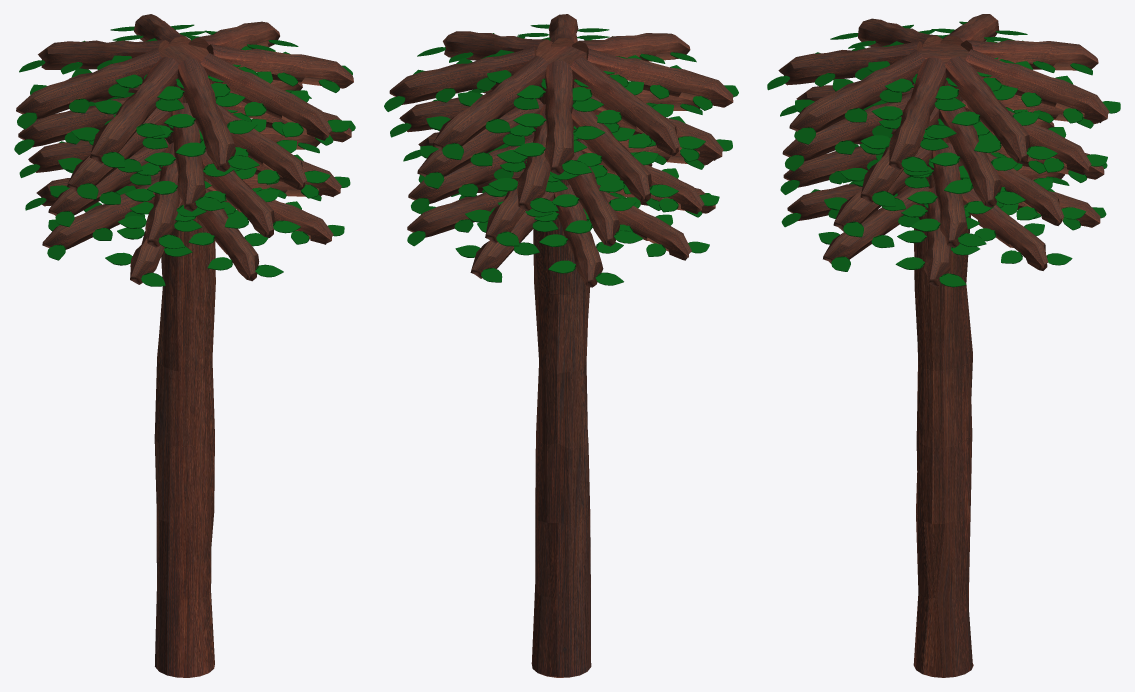
3 renders of one model, left to right at view 1: azimuth 30°, elevation 25°; view 2: azimuth 150°, elevation 25°; view 3: azimuth 270°, elevation 25°, orthographic.
Visible parts, largest first — view 1: 木ﾊﾟﾀｰﾝ２, 柱_29, 柱_32, 柱_31, 柱_30, 柱_28, 柱_25, 柱_21, 柱_7, 柱_13, 柱_22, 柱_24 (+11 smaller); view 2: 木ﾊﾟﾀｰﾝ２, 柱_32, 柱_31, 柱_26, 柱_27, 柱_25, 柱_24, 柱_30, 柱_28, 柱_8, 柱_18, 柱_16 (+11 smaller); view 3: 木ﾊﾟﾀｰﾝ２, 柱_26, 柱_29, 柱_27, 柱_28, 柱_30, 柱_25, 柱_19, 柱_21, 柱_2, 柱_4, 柱_11 (+11 smaller).
Boxes of the visible parts, box(x1,y1,x2,y2) form: 木ﾊﾟﾀｰﾝ２: box(154, 44, 215, 677); 柱_29: box(200, 53, 331, 140); 柱_32: box(16, 48, 161, 119); 柱_31: box(90, 56, 178, 163); 柱_30: box(177, 59, 235, 171); 柱_28: box(206, 44, 353, 88); 柱_25: box(38, 39, 169, 69); 柱_21: box(216, 103, 306, 189); 柱_7: box(42, 176, 159, 249); 柱_13: box(201, 149, 274, 237); 柱_22: box(171, 102, 205, 211); 柱_24: box(18, 96, 130, 147); 木ﾊﾟﾀｰﾝ２: box(531, 46, 591, 677); 柱_32: box(570, 57, 679, 155); 柱_31: box(586, 48, 733, 107); 柱_26: box(432, 55, 548, 151); 柱_27: box(389, 46, 536, 104); 柱_25: box(544, 61, 574, 175); 柱_24: box(571, 107, 651, 202); 柱_30: box(572, 33, 690, 61); 柱_28: box(443, 31, 552, 60); 柱_8: box(553, 185, 603, 287); 柱_18: box(417, 98, 543, 176); 柱_16: box(567, 150, 619, 246); 木ﾊﾟﾀｰﾝ２: box(913, 43, 973, 677); 柱_26: box(965, 49, 1109, 122); 柱_29: box(789, 50, 925, 132); 柱_27: box(945, 56, 1029, 164); 柱_28: box(888, 57, 946, 170); 柱_30: box(778, 41, 922, 85); 柱_25: box(960, 40, 1098, 70); 柱_19: box(939, 107, 1001, 207); 柱_21: box(782, 91, 912, 161); 柱_2: box(962, 188, 1048, 270); 柱_4: box(823, 186, 929, 263); 柱_11: box(931, 143, 967, 247).
Size of the model in its own units: 529 by 1022 by 529.
Materials: 2 (1 with a texture image).
